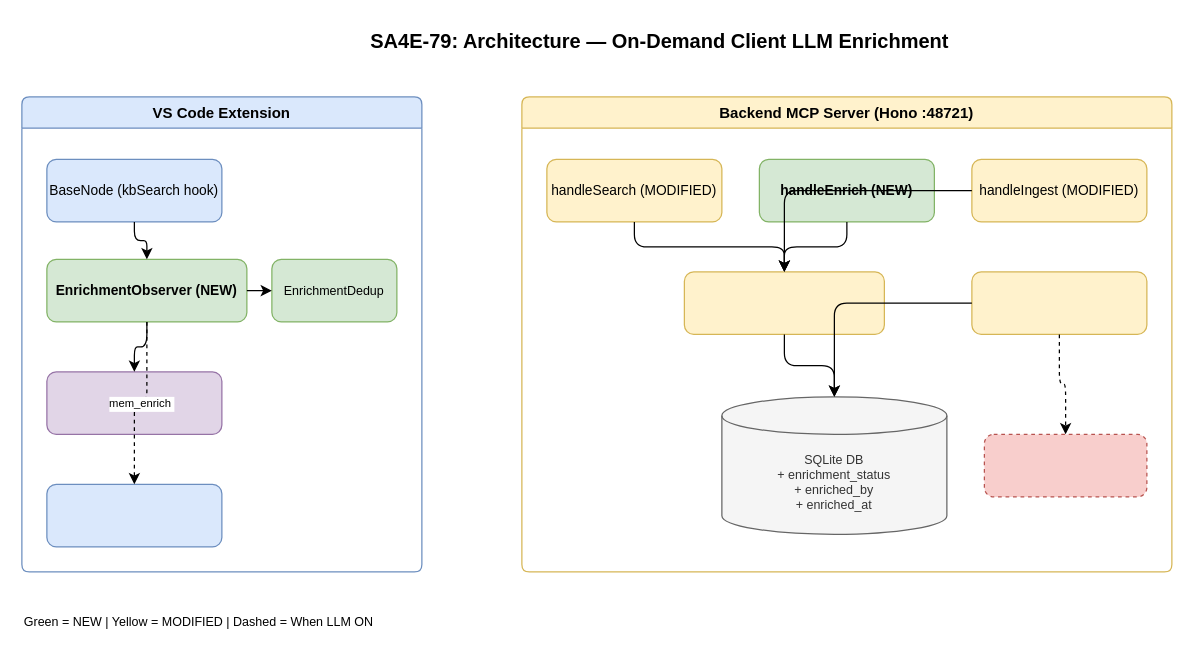
The diagram is 1194 pixels wide and 655 high, and some of its shapes have lost their labels. The shapes that lost their labels are listed below. From the top down, each one's centre as x and y in pixels, then its label:
(x=783, y=302): MemoryEngine (core.ts)
(x=1059, y=302): TaskWorker (MODIFIED)
(x=134, y=402): Client LLM (Kiro/Claude)
(x=1065, y=465): Backend LLM (Ollama)
(x=134, y=515): McpBridge (HTTP)
